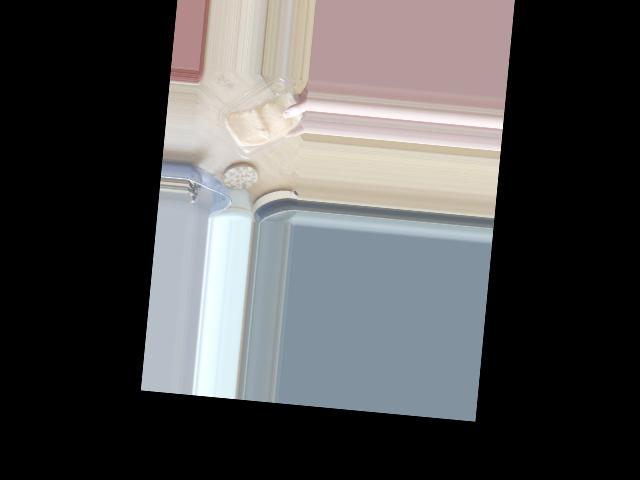cheese: (204, 72, 302, 170)
